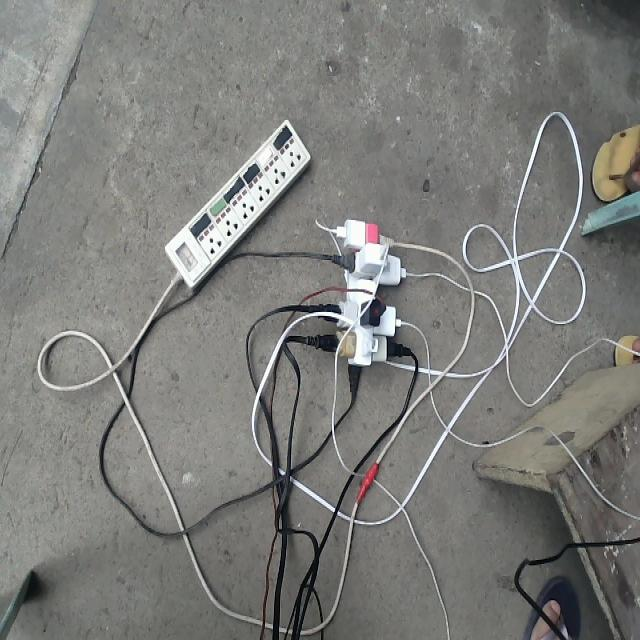-: (307, 220, 412, 397)
